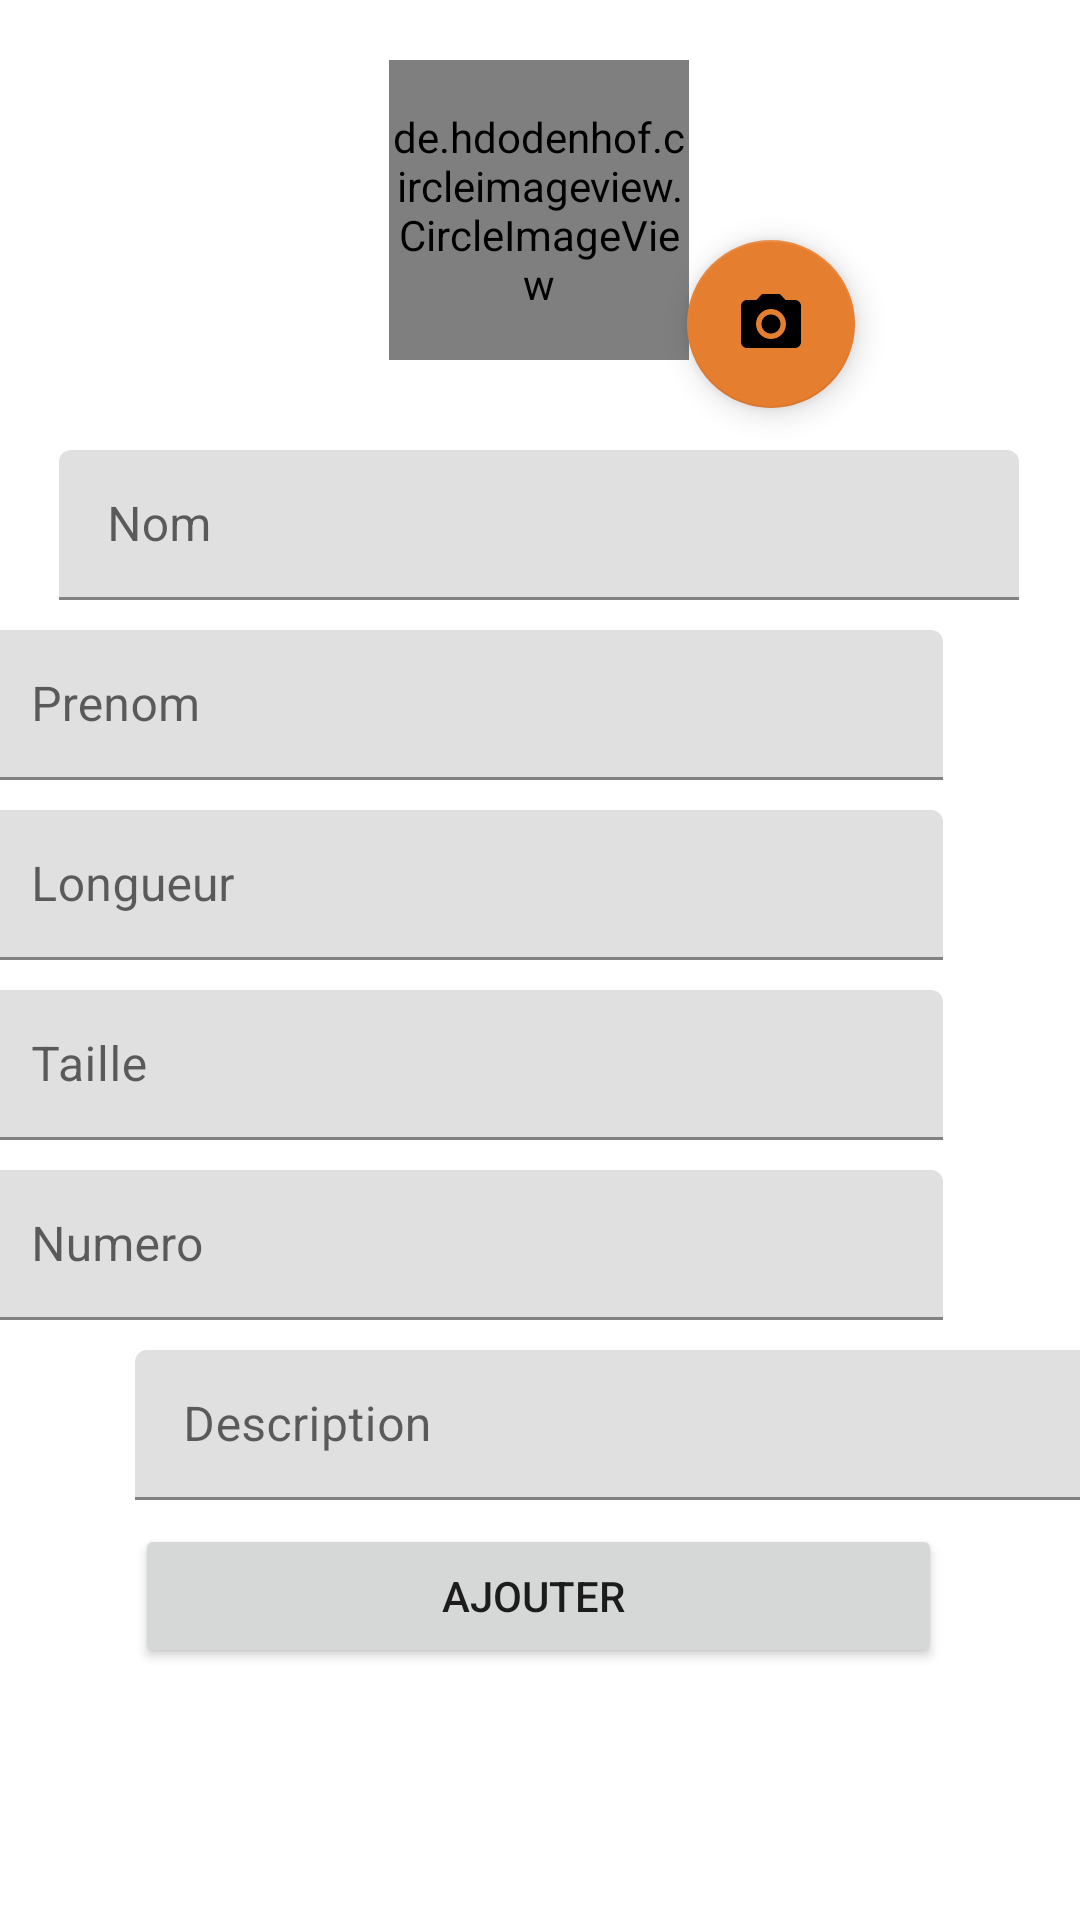

Where to tap for icons on this 1080px×1920px app screen, as (x=x, y=y):
photo camera: (x=771, y=324)
